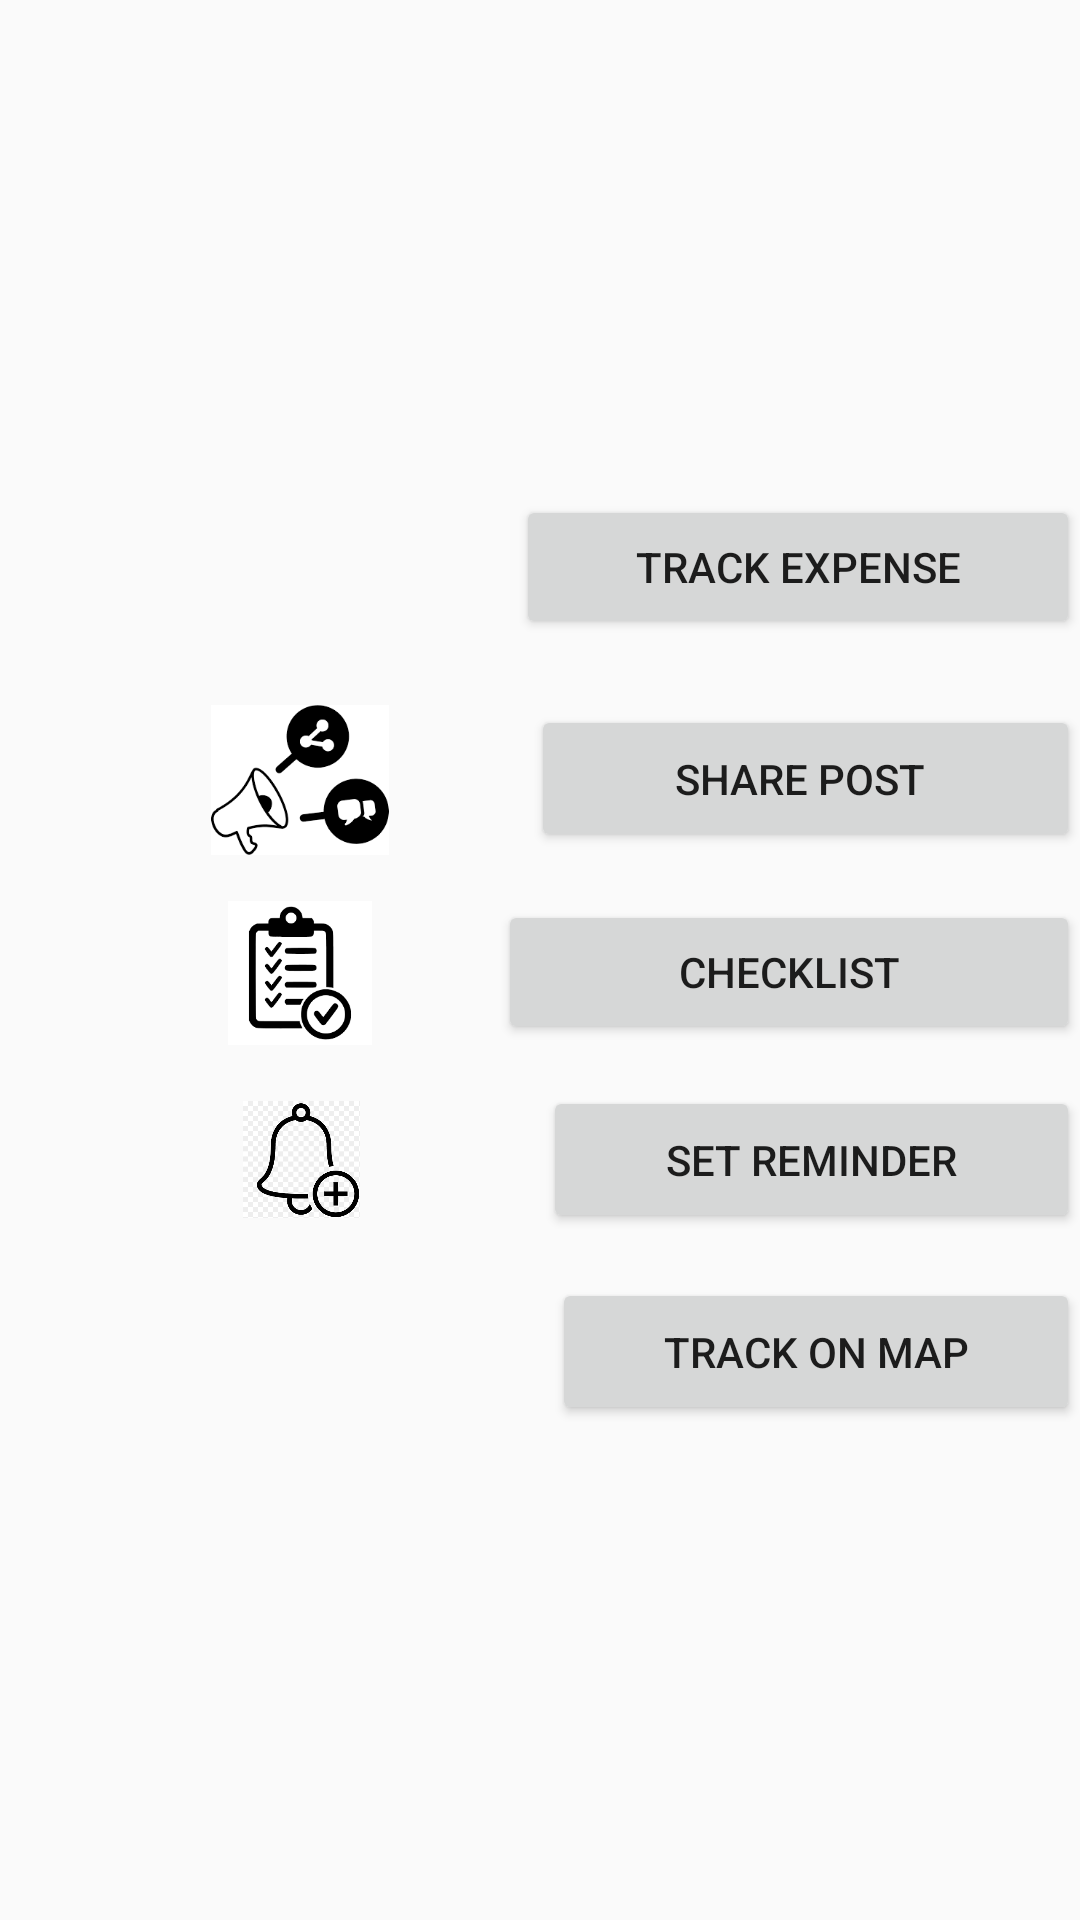

Where to tap for icons on this 1080*1920 app screen, as (x,y):
socialmedia: (300,780)
